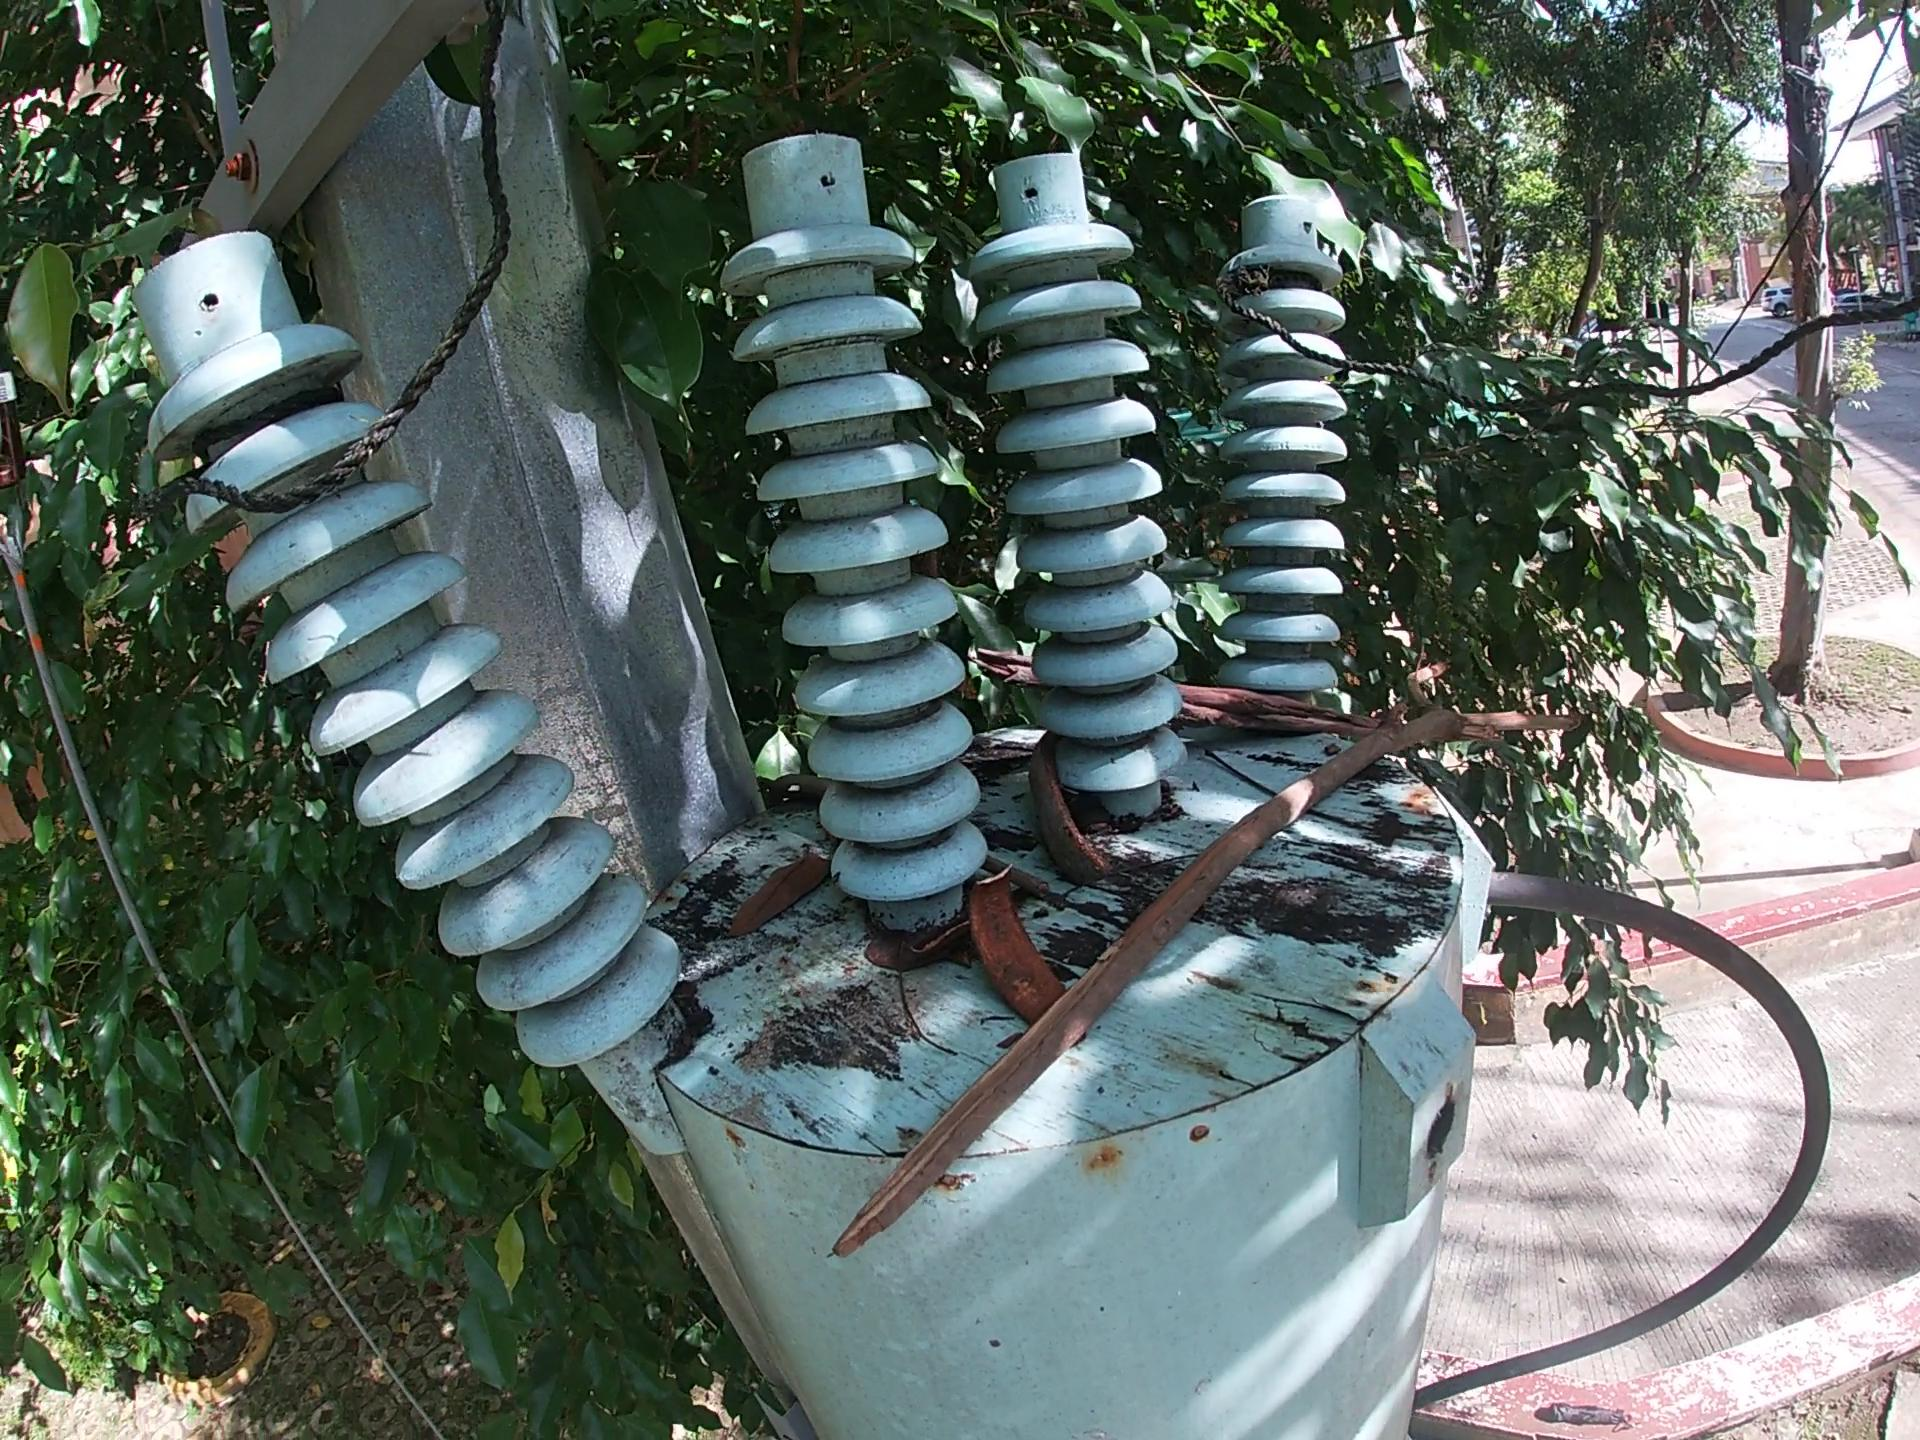leaf: (695, 850, 821, 957), (859, 921, 919, 976)
mahogany fruit: (1023, 718, 1134, 915), (962, 861, 1063, 1029)
tree branch: (810, 653, 1613, 1281), (1166, 687, 1383, 731), (893, 971, 955, 1065), (1312, 809, 1474, 843), (963, 638, 1040, 694), (1206, 743, 1279, 796), (989, 856, 1060, 898), (924, 926, 971, 964), (763, 774, 830, 794)
